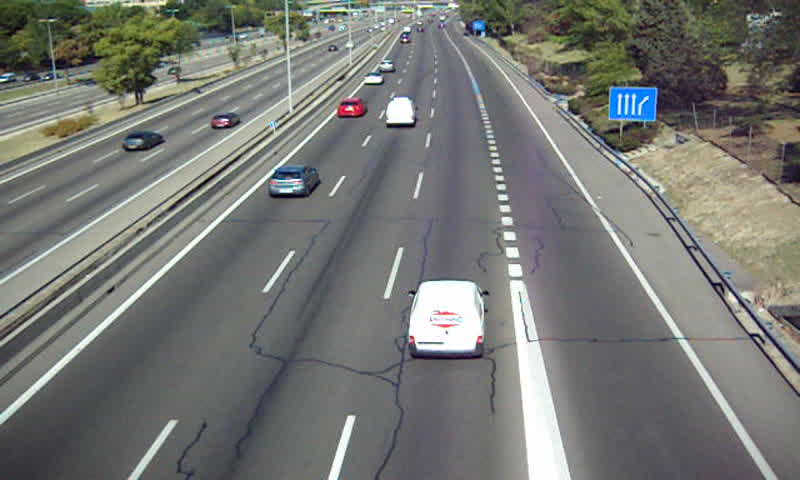car: (268, 165, 318, 198), (337, 98, 365, 118), (363, 72, 383, 85), (378, 59, 393, 73)
van: (408, 281, 486, 356), (385, 97, 418, 128)
